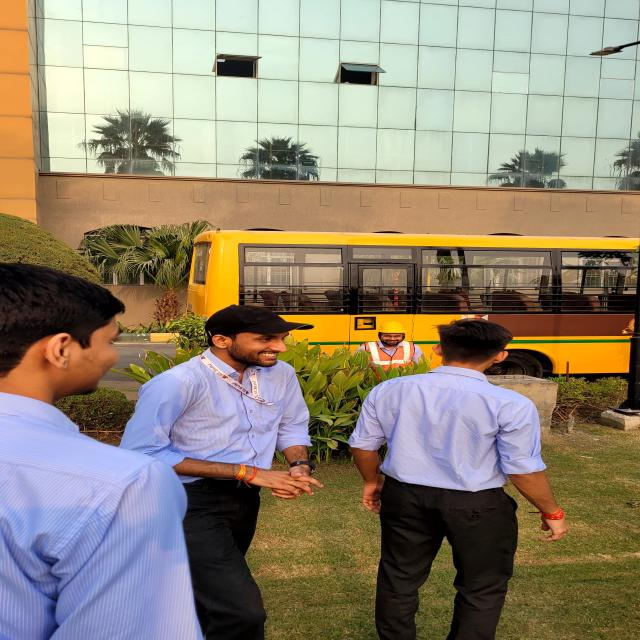safe: (358, 323, 420, 372)
unsafe: (0, 257, 191, 640), (373, 324, 556, 640), (137, 306, 286, 638)
